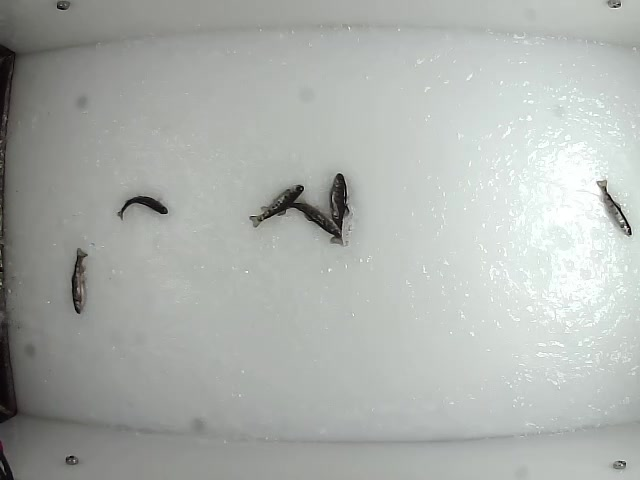fish: (247, 183, 307, 229), (592, 179, 633, 239), (277, 200, 342, 237), (328, 171, 352, 247), (114, 194, 169, 223), (70, 246, 91, 316)
